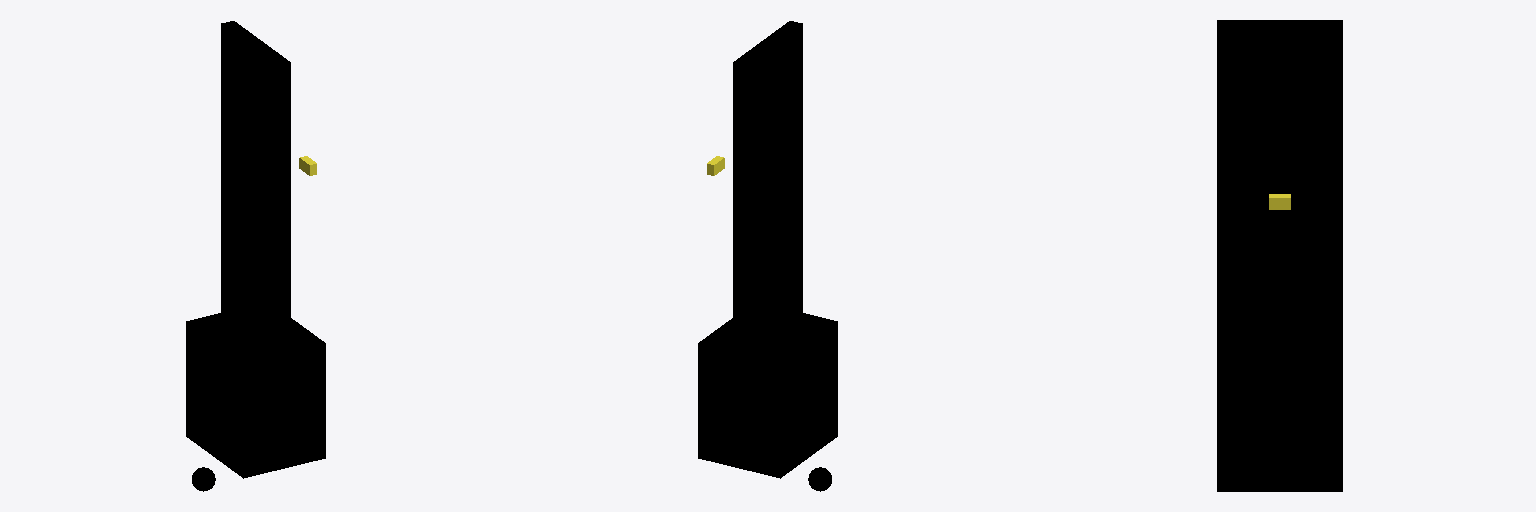
The robot description file, URDF, robot "sudo":
<?xml version="1.0"?>
<robot name="sudo">

  <origin xyz="0 0 0" rpy="0 0 0"/>
    <!-- Pioneer 2 Chassis-->
    <link name="chassis">
      <origin xyz="0 0 0.16" rpy="0 0 0"/>
      <visual name="visual">
        <origin xyz="0 0 0.04" rpy="0 0 0"/>
        <geometry>
	  <mesh filename="package://sudo_description/models/pioneer2dx/meshes/chassis.dae"/>
        </geometry>
      </visual>
      <visual name="castor_visual">
        <origin xyz="-0.200 0 -0.12" rpy="0 0 0"/>
        <geometry>
          <sphere radius="0.04"/>
        </geometry>
        <material name="black">
          <color rgba="0 0 0 1.0"/>
        </material>
      </visual>
    </link>
    <!-- Bottom cube of Sudo-->
    <link name="bottom_body_box">
      <origin xyz="0.04 0 0.28" rpy="0 0 0"/>
      <visual name="visual">
        <geometry>
          <box size="0.315 0.38 0.42"/>
        </geometry>
        <material name="black">
          <color rgba="0 0 0 1.0"/>
        </material>
      </visual> 
    </link>
    <!-- Top long part of sudo-->
    <link name="top_body_box">
      <origin xyz="0.04 0 1" rpy="0 0 0"/>
      <visual name="visual">
        <geometry>
          <box size="0.05 0.38 1.13"/>
        </geometry>
        <material name="black">
          <color rgba="0 0 0 1.0"/>
        </material>
      </visual> 
    </link>
    <!-- Small webcam that Amir uses for Navigation-->
    <link name="webcam_link">
      <origin xyz="0.2 0 0.77" rpy="0 0 0"/>
      <visual name="visual">
        <geometry>
          <box size="0.029 0.068 0.040"/>
        </geometry>
      </visual>
    </link>
    <!-- The link for bottom kinect-->
    <link name="camera_link">
      <origin xyz="0.2 0 1.62" rpy="0 1.24 0"/>
      <visual name="visual">
        <geometry>
	  <mesh filename="package://sudo_description/models/kinect/meshes/kinect.dae"/>
        </geometry>
      </visual>
    </link>
    <!-- The link for top kinect-->
    <link name="camera2_link">
      <origin xyz="0.07 0 1.85" rpy="0 0.33 0"/>
      <visual name="visual">
        <geometry>
          <mesh filename="package://sudo_description/models/kinect/meshes/kinect.dae"/>
        </geometry>
      </visual>
    </link>
    <!-- The link for sick laser. The used model is actually hokoyu-->
    <link name="laser_link">
      <origin xyz="-0.2 0 0.3" rpy="0 0 3.14"/>
      <visual name="visual">
        <geometry>
          <mesh filename="package://sudo_description/models/hokuyo/meshes/hokuyo.dae"/>
        </geometry>
      </visual>
    </link>
    
    <link name="right_wheel">
      <origin xyz="0.1 -.17 0.11" rpy="1.5707 1.5707"/>

      <visual name="visual">
        <geometry>
          <cylinder radius = "0.11" length = "0.05"/>
        </geometry>
        <material name="black">
          <color rgba="0 0 0 1.0"/>
        </material>
      </visual>
    </link>
    
    <link name="left_wheel">
      <origin xyz="0.1 .17 0.11 0" rpy="1.5707 1.5707"/>

      <visual name="visual">
        <geometry>
          <cylinder radius = "0.11" length = "0.05"/>
        </geometry>
        <material name="black">
          <color rgba="0 0 0 1.0"/>
        </material>
      </visual>
    </link>
    
    <joint type="continuous" name="left_wheel_hinge">
      <origin xyz="0 0 -0.03" rpy="0 0 0"/>
      <child link="left_wheel"/>
      <parent link="chassis"/>
      
      <axis xyz ="0 1 0"/>
      <limit effort="100" velocity="100"/>
      <joint_properties damping="0.0" friction="0.0"/>

    </joint>
    
    <joint type="continuous" name="right_wheel_hinge">
      <origin xyz="0 0 0.03" rpy="0 0 0"/>
      <child link="right_wheel"/>
      <parent link="chassis"/>
      <axis xyz=" 0 1 0"/>
      <limit effort="100" velocity="100"/>
      <joint_properties damping="0.0" friction="0.0"/>

    </joint>
    
    <!-- Connection between chassis and bottom rectangular box-->
    <joint type="fixed" name="chassis_to_bottom">
      <origin xyz="0 0 0.16" rpy=" 0 0 0"/>
      <child link="bottom_body_box"/>
      <parent link="chassis"/>
    </joint>
    <!-- Connection between chassis and laser-->
    <joint type="fixed" name="laser_to_chassis">
      <origin xyz="-0.15 0 0.3 " rpy="0 0 3.14"/>
      <child link="laser_link"/>
      <parent link="chassis"/>
    </joint>
    
    <!-- Connection between top and bottom rectangular boxes-->
    <joint type="fixed" name="bottom_to_top">
      <origin xyz="0 0 0.7" rpy="0 0 0"/>
      <child link="top_body_box"/>
      <parent link="bottom_body_box"/>
    </joint>
    
    <!-- Connection between webcam and bottom rectangular box-->
    <joint type="fixed" name="bottom_to_webcam">
      <origin xyz="0.2 0 0.77" rpy="0 0 0"/>
      <child link="webcam_link"/>
      <parent link="bottom_body_box"/>
    </joint>
    
    <!-- Connection between bottom kinect and top body-->
    <joint type="fixed" name="bottom_kinect_to_top_body">
      <origin xyz="0.07 0 1.85" rpy="0 0.33 0"/>
      <child link="camera_link"/>
      <parent link="top_body_box"/>
    </joint>

    <!-- Connection between top kinect and top body-->
    <joint type="fixed" name="top_kinect_to_top_body">
      <origin xyz="0.2 0 1.62" rpy="0 1.24 0"/>
      <child link="camera2_link"/>
      <parent link="top_body_box"/>
    </joint>
</robot>

--- What the picture shows (computed from the rendered views, not written in the file) ---
The picture shows the robot from 3 angles, left to right: view 1: azimuth 30°, elevation 25°; view 2: azimuth 150°, elevation 25°; view 3: azimuth 270°, elevation 25°; orthographic projection.
Model sudo with 9 links and 8 joints (2 continuous, 6 fixed), rooted at chassis, posed every joint at zero.
Links seen in each view (by area): view 1: top_body_box, bottom_body_box; view 2: top_body_box, bottom_body_box; view 3: top_body_box, bottom_body_box.
Link boxes in pixels (x1,y1,x2,y2): top_body_box: (221,21,290,374); bottom_body_box: (186,313,325,478); top_body_box: (733,21,802,374); bottom_body_box: (698,313,837,478); top_body_box: (1217,20,1342,345); bottom_body_box: (1217,346,1342,491).
Bounding box of the posed robot: 0.4545 × 0.38 × 1.58 m (x, y, z).
0 mesh visuals loaded from 3 distinct referenced files (none loaded); not drawn: 4 (reference not matched to a file when rendering).
